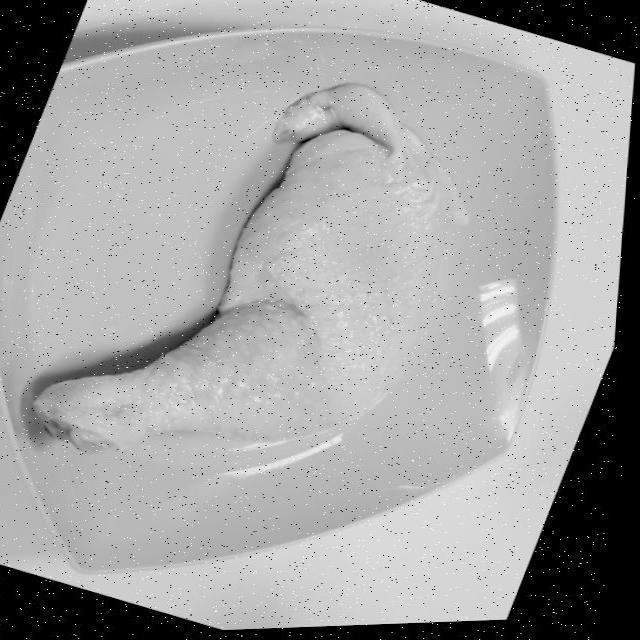quater: (29, 90, 473, 453)
